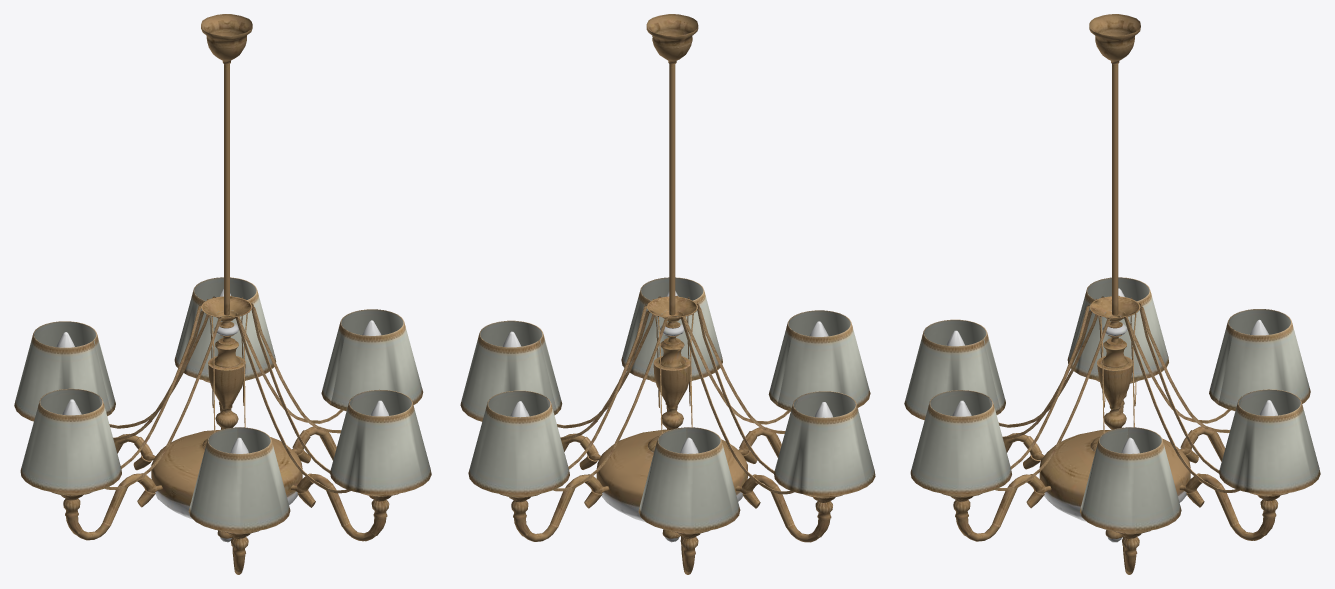
Rendered from chandelier.glb.
3 renders of one model, left to right at view 1: azimuth 30°, elevation 25°; view 2: azimuth 150°, elevation 25°; view 3: azimuth 270°, elevation 25°, orthographic.
Parts seen in each view (by area): view 1: Chandelier_02; view 2: Chandelier_02; view 3: Chandelier_02.
Part boxes in pixels (<box>): Chandelier_02: <box>14,14,431,574</box>; Chandelier_02: <box>460,14,875,574</box>; Chandelier_02: <box>904,14,1320,574</box>.
Size of the model in its own units: 0.6791 by 0.8481 by 0.6194.
2 materials, 1 textured.
